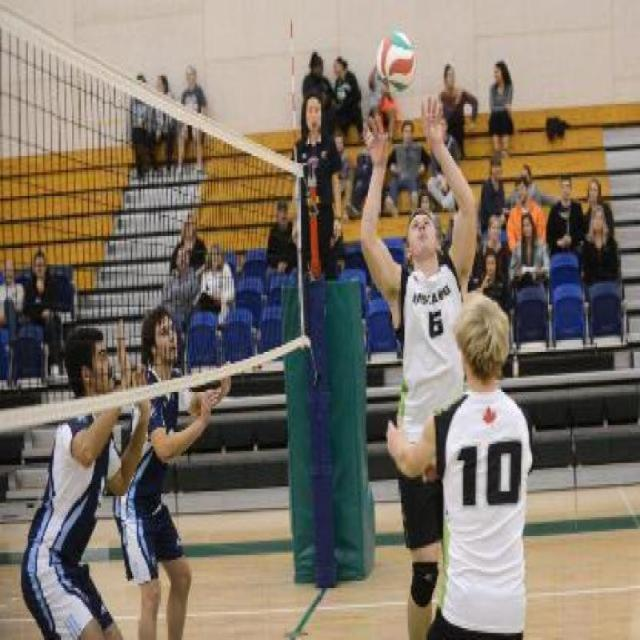volleyball: (376, 28, 416, 95)
